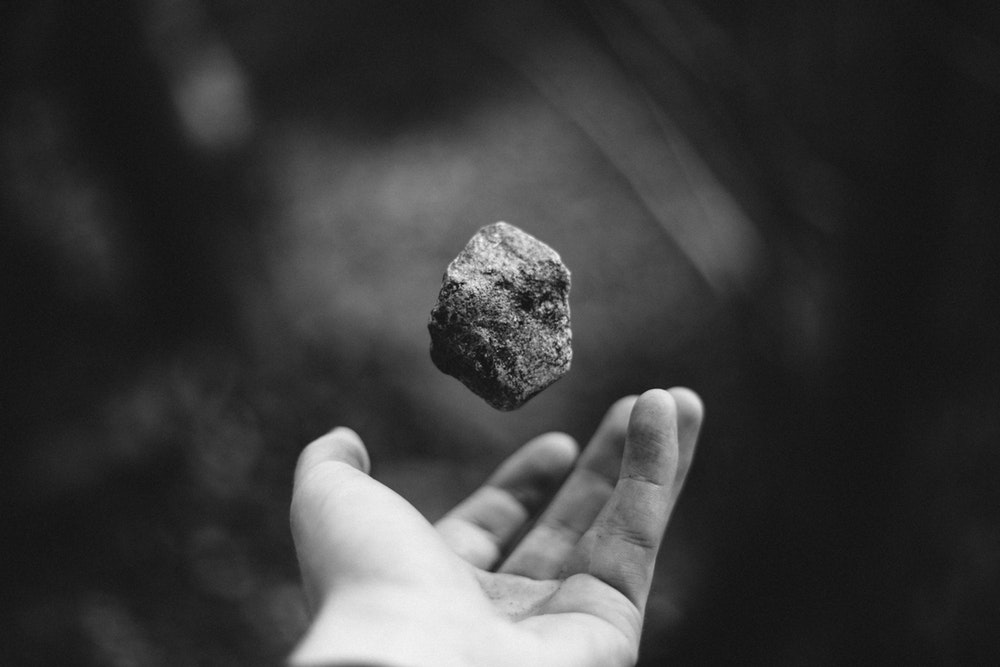palm: (374, 530, 634, 659)
